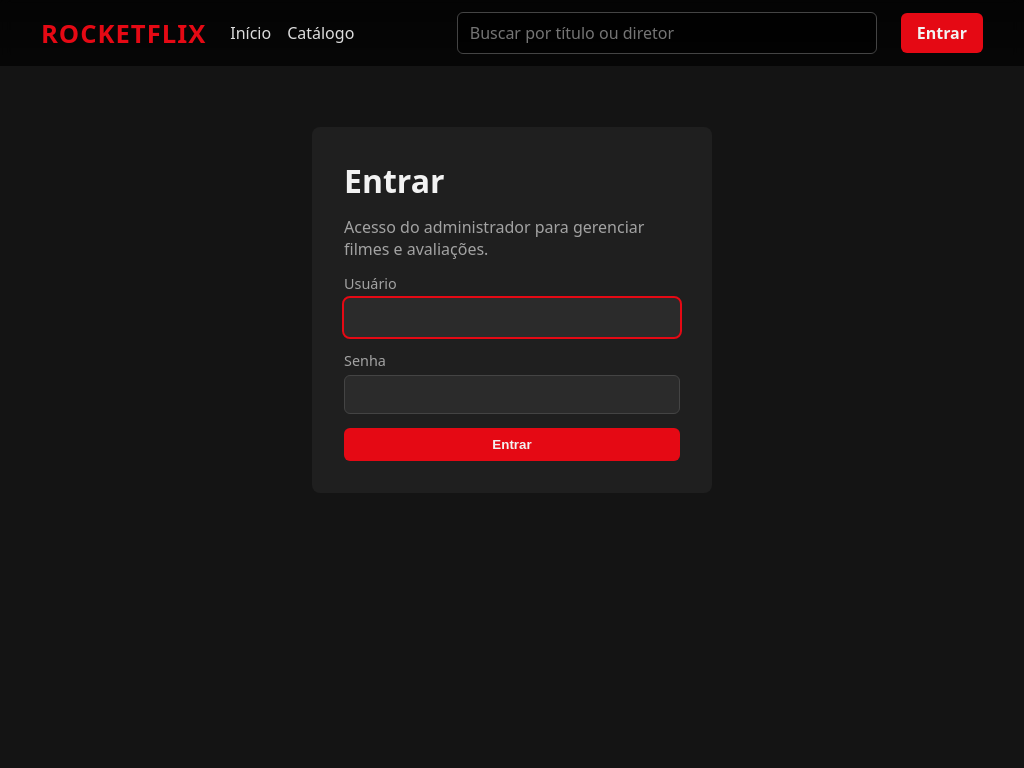
Scenario: autenticação › credenciais inválidas mostram o erro e não criam sessão
In the field labelled "Usuário": (512, 318) [344,298,680,337], type "admin"
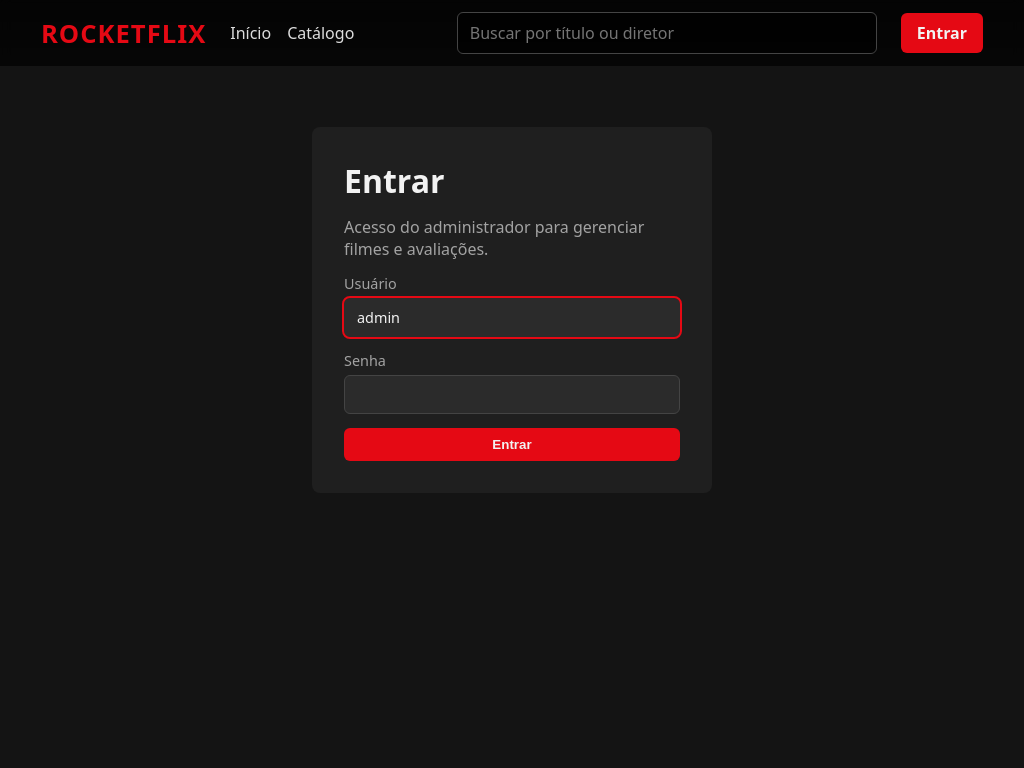
In the password field labelled "Senha": (512, 395) [344,375,680,414], type "errada"
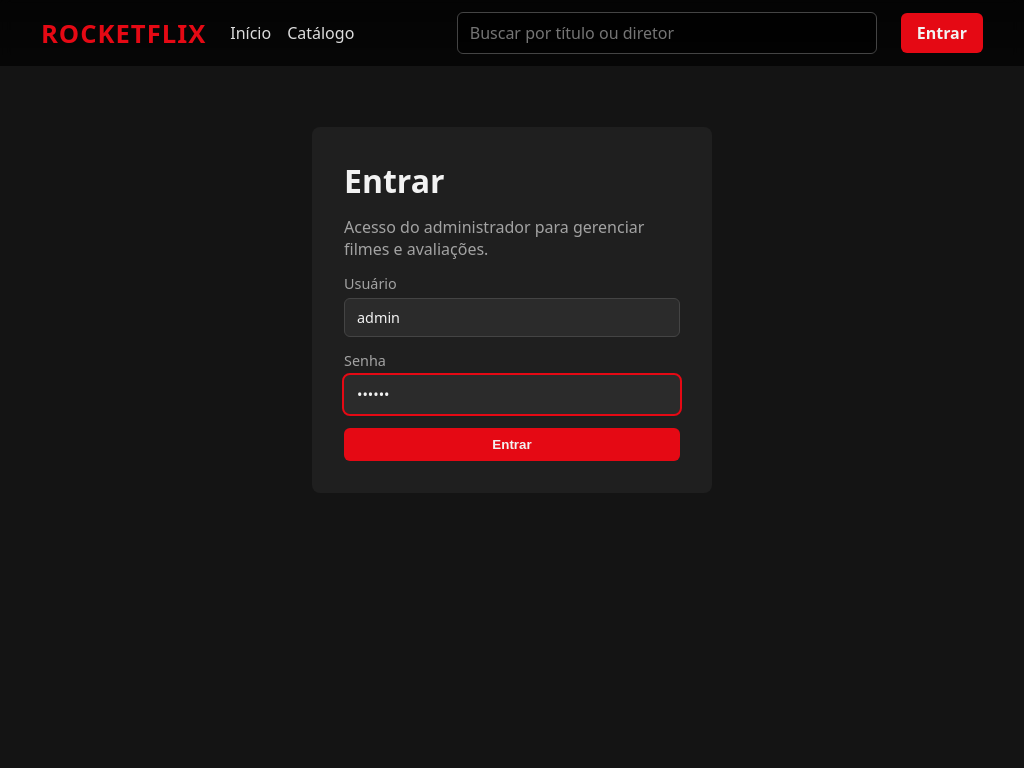
Click the button "Entrar": click(512, 445) [344,428,680,461]
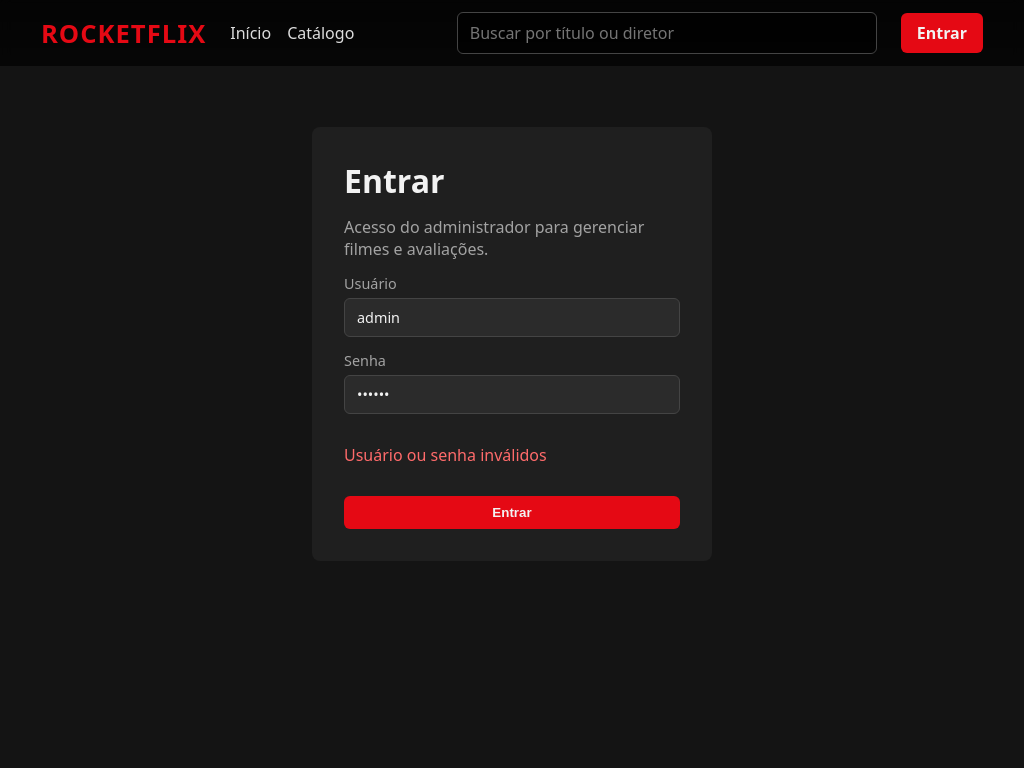
Check: the message reads "Usuário ou senha inválidos", box [344,444,547,466]
